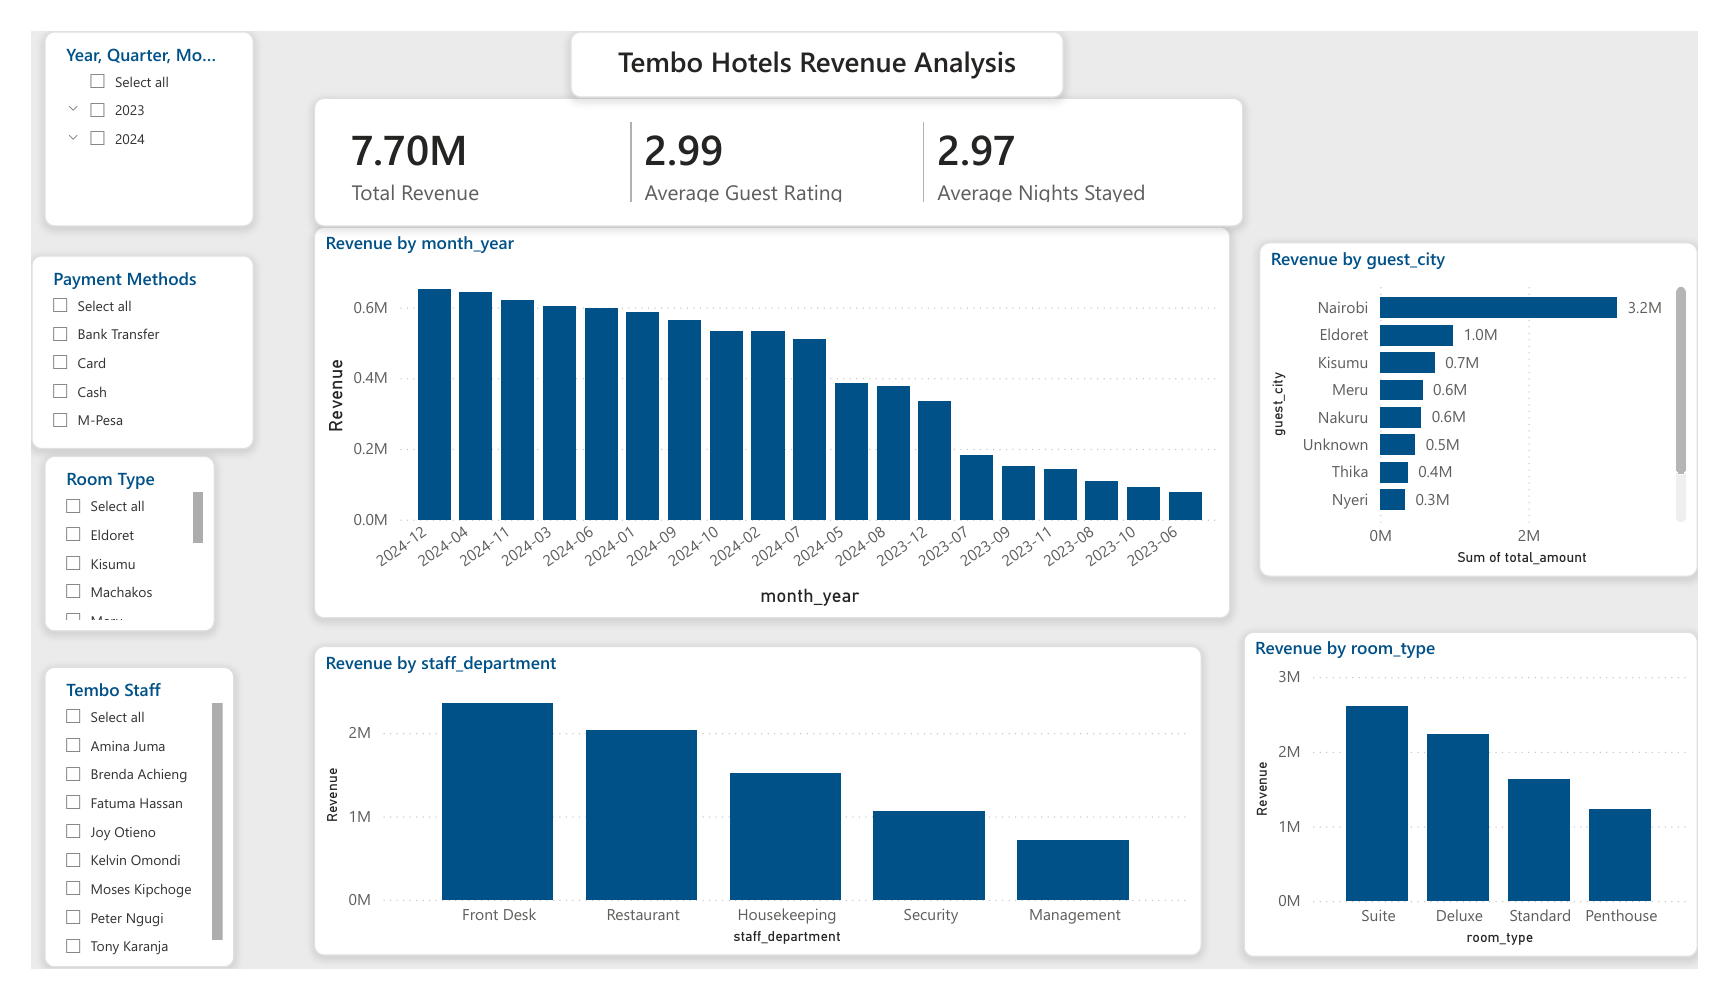

The page's visual inventory and layout, read from the dashboard file:
{"tool":"powerbi","page":{"name":"Tembo Hotel Performance","canvas":[1280,720],"ordinal":0},"visuals":[{"type":"slicer","fields":{"Values":["tembo_hotel v_bookings_master.check_in_date.Variation.Date Hierarchy.Year","tembo_hotel v_bookings_master.check_in_date.Variation.Date Hierarchy.Quarter","tembo_hotel v_bookings_master.check_in_date.Variation.Date Hierarchy.Month"]},"box":[9.8,0,161,149.9],"z":0},{"type":"slicer","fields":{"Values":["tembo_hotel v_bookings_master.staff_name"]},"box":[9.8,488.2,146.6,231],"z":1000},{"type":"slicer","fields":{"Values":["tembo_hotel v_bookings_master.payment_method"]},"box":[0,172.1,170.8,148.5],"z":2000},{"type":"lineClusteredColumnComboChart","fields":{"Category":["tembo_hotel v_bookings_master.month_year"],"Y":["Sum(tembo_hotel v_bookings_master.total_amount)"]},"box":[216.6,149.9,704.8,301],"z":3000},{"type":"clusteredColumnChart","fields":{"Y":["Sum(tembo_hotel v_bookings_master.total_amount)"],"Category":["tembo_hotel v_bookings_master.staff_department"]},"box":[216.6,471.8,682.5,238.2],"z":4000},{"type":"clusteredColumnChart","fields":{"Y":["Sum(tembo_hotel v_bookings_master.total_amount)"],"Category":["tembo_hotel v_bookings_master.room_type"]},"box":[931.2,461.3,348.8,250],"z":5000},{"type":"slicer","fields":{"Values":["tembo_hotel v_guest_insights.guest_city"]},"box":[9.8,325.9,130.9,135.5],"z":6000},{"type":"cardVisual","fields":{"Data":["Sum(tembo_hotel v_bookings_master.total_amount)","Avg(tembo_hotel v_bookings_master.guest_rating)","Avg(tembo_hotel v_bookings_master.nights_stayed)"]},"box":[217.3,51,713.9,98.8],"z":7000},{"type":"textbox","box":[414.2,0,378.9,51],"z":8000},{"type":"barChart","title":"Revenue by guest_city","fields":{"Category":["tembo_hotel v_bookings_master.guest_city"],"Y":["Sum(tembo_hotel v_bookings_master.total_amount)"]},"box":[943,162.3,337,256.5],"z":9000}]}

Visuals, with their boxes in screenshot pixels (x1, y1, x2, y2), scaled from the page's 1280x720 canvas onto the 1730x1000 screenshot:
slicer - tembo_hotel v_bookings_master.check_in_date.Variation.Date Hierarchy.Year x tembo_hotel v_bookings_master.check_in_date.Variation.Date Hierarchy.Quarter: 13 0 231 208
slicer - tembo_hotel v_bookings_master.staff_name: 13 678 211 999
slicer - tembo_hotel v_bookings_master.payment_method: 0 239 231 445
lineClusteredColumnComboChart - tembo_hotel v_bookings_master.month_year x Sum(tembo_hotel v_bookings_master.total_amount): 293 208 1245 626
clusteredColumnChart - Sum(tembo_hotel v_bookings_master.total_amount) x tembo_hotel v_bookings_master.staff_department: 293 655 1215 986
clusteredColumnChart - Sum(tembo_hotel v_bookings_master.total_amount) x tembo_hotel v_bookings_master.room_type: 1259 641 1729 988
slicer - tembo_hotel v_guest_insights.guest_city: 13 453 190 641
cardVisual - Sum(tembo_hotel v_bookings_master.total_amount) x Avg(tembo_hotel v_bookings_master.guest_rating): 294 71 1259 208
textbox: 560 0 1072 71
"Revenue by guest_city" barChart: 1275 225 1729 582
